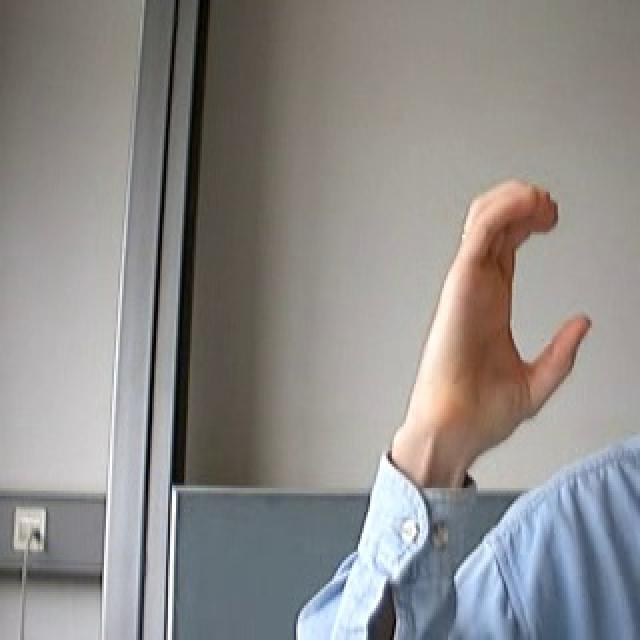C: (416, 164, 599, 456)
